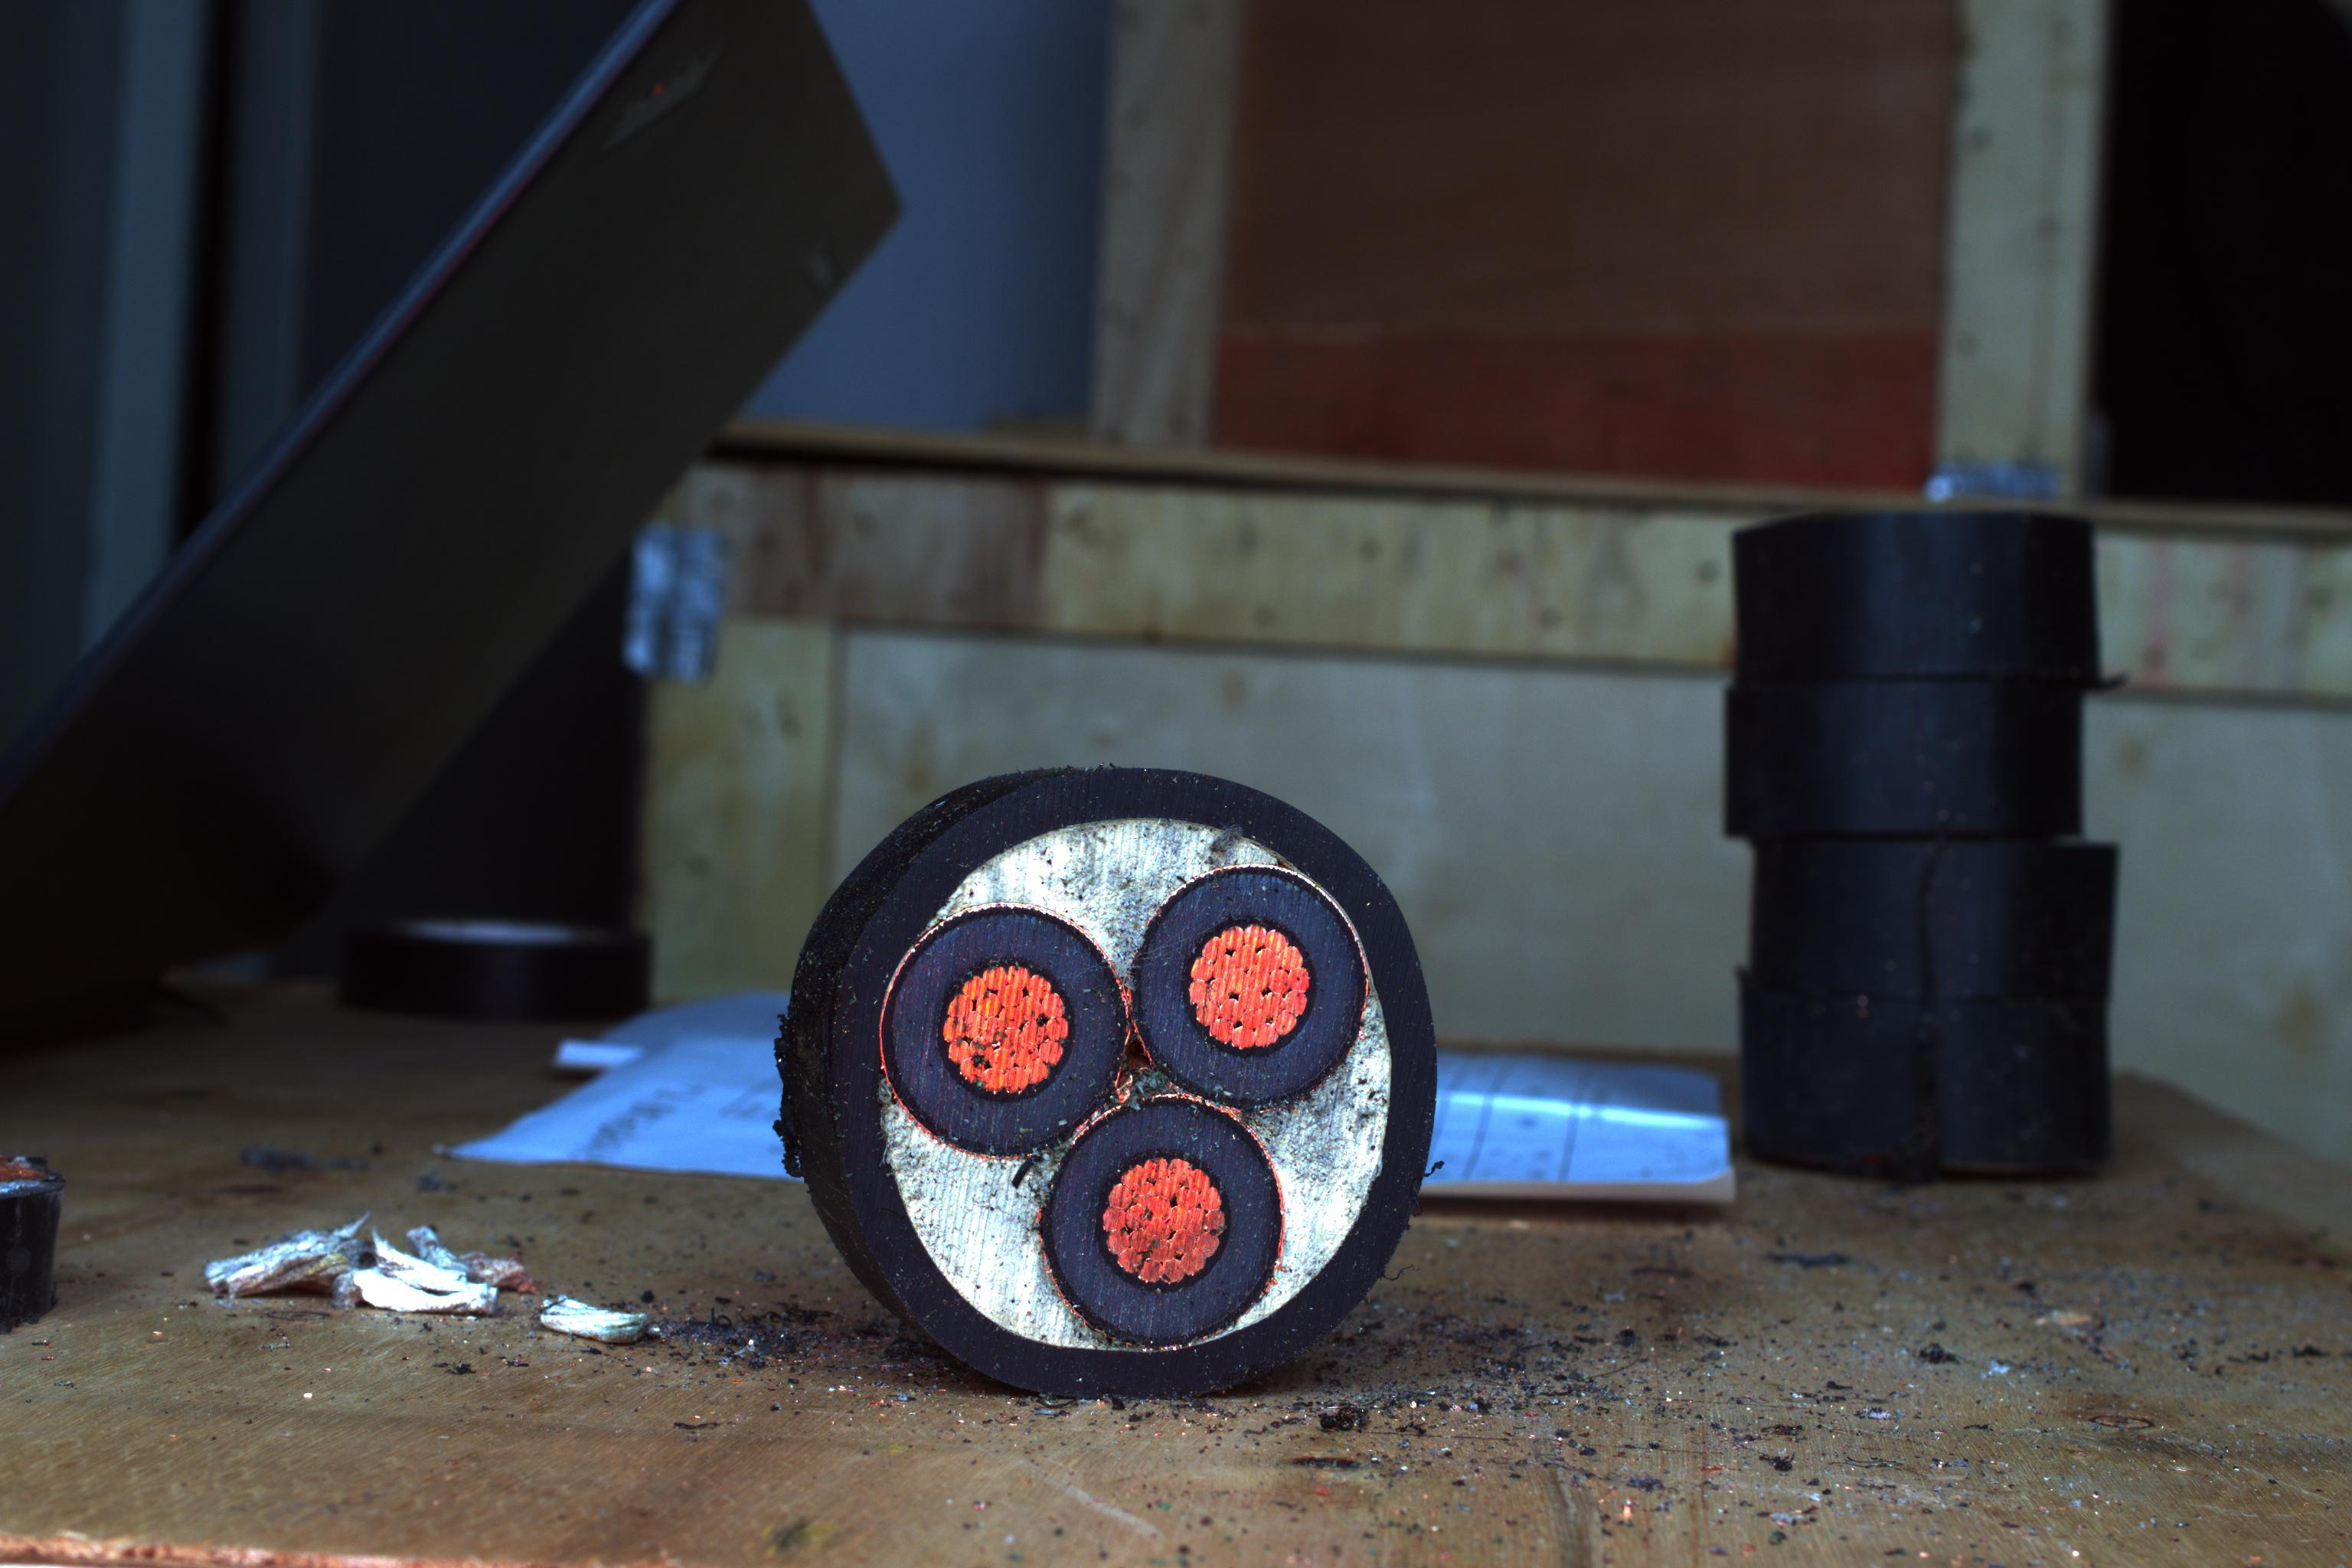ZA_YJV_8.7_10kV_3x120: (831, 777, 1421, 1391)
